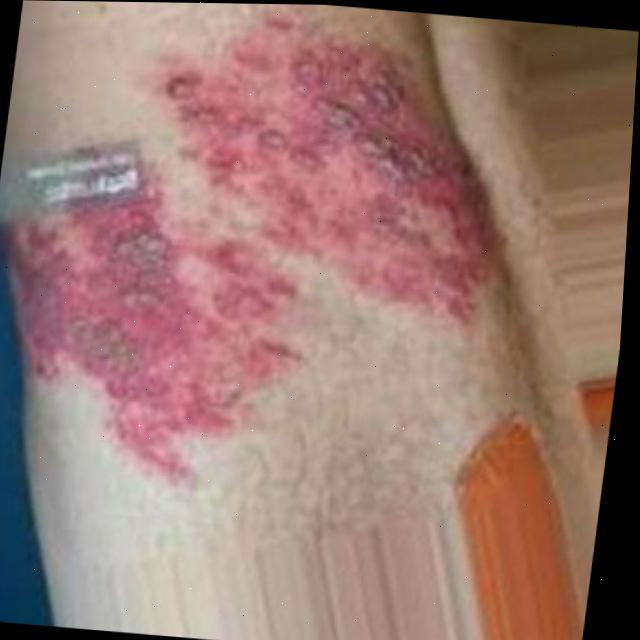Shingles: (138, 2, 540, 329), (0, 171, 323, 488)
